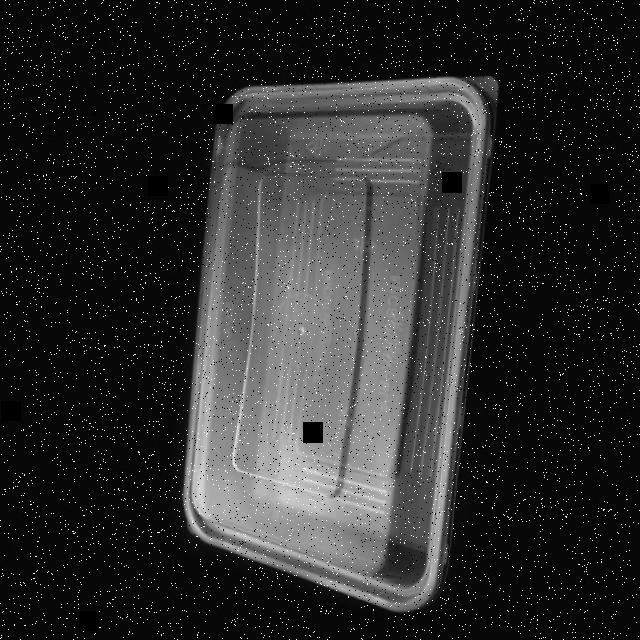plastic_box: (164, 46, 496, 614)
